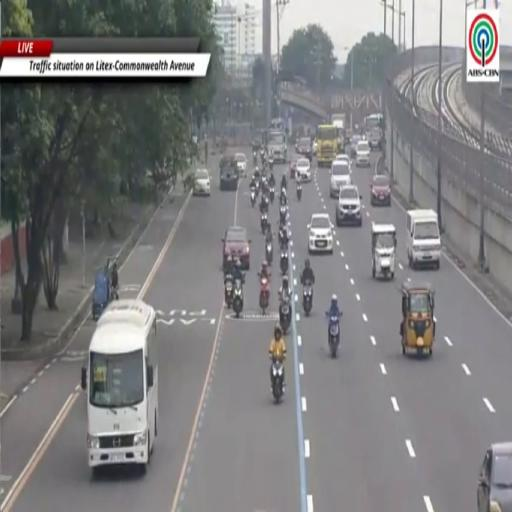bus: (81, 300, 158, 472), (364, 114, 383, 134), (270, 118, 285, 131)
car: (477, 442, 511, 511), (222, 227, 250, 270), (336, 185, 362, 227), (307, 214, 333, 253), (330, 160, 351, 198), (370, 175, 391, 206), (219, 156, 238, 190), (193, 169, 210, 196), (356, 140, 370, 167), (296, 158, 311, 182), (297, 137, 312, 161), (367, 127, 382, 150), (350, 133, 363, 158), (235, 153, 247, 177), (290, 157, 298, 179), (335, 154, 351, 165), (345, 128, 352, 145), (313, 139, 317, 155)
motorcycle: (327, 312, 341, 358), (271, 359, 284, 403), (279, 296, 291, 333), (259, 277, 269, 314), (233, 280, 243, 317), (303, 282, 312, 315), (279, 248, 289, 275), (225, 275, 233, 308), (279, 228, 287, 248), (266, 242, 272, 265), (280, 205, 287, 223), (296, 181, 302, 202), (261, 213, 267, 233), (111, 286, 119, 299), (270, 187, 275, 202), (251, 188, 255, 206), (268, 156, 273, 170), (254, 151, 257, 166)
truck: (316, 125, 338, 167), (268, 131, 287, 163), (331, 113, 346, 153)
